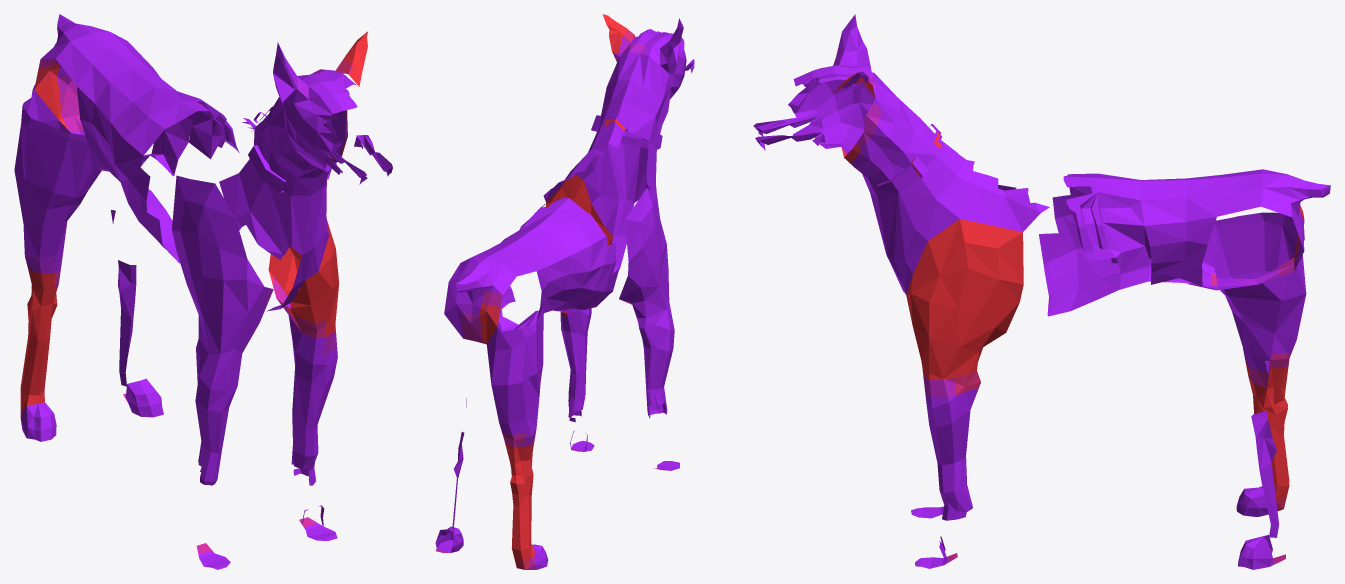
Rendered from ZombiDog.obj.
The picture shows the model from 3 angles, left to right: view 1: azimuth 30°, elevation 25°; view 2: azimuth 150°, elevation 25°; view 3: azimuth 270°, elevation 25°; orthographic projection. The views are drawn at different scales.
Visible parts, largest first — view 1: Mesh_Resident_evil_1_dog_ZombieDog; view 2: Mesh_Resident_evil_1_dog_ZombieDog; view 3: Mesh_Resident_evil_1_dog_ZombieDog.
Part boxes in pixels (x1,y1,x2,y2): Mesh_Resident_evil_1_dog_ZombieDog: [14, 14, 392, 569]; Mesh_Resident_evil_1_dog_ZombieDog: [435, 14, 694, 569]; Mesh_Resident_evil_1_dog_ZombieDog: [753, 14, 1330, 569].
Bounding box in the file's own units: 0.5958 × 2.16 × 2.31.
